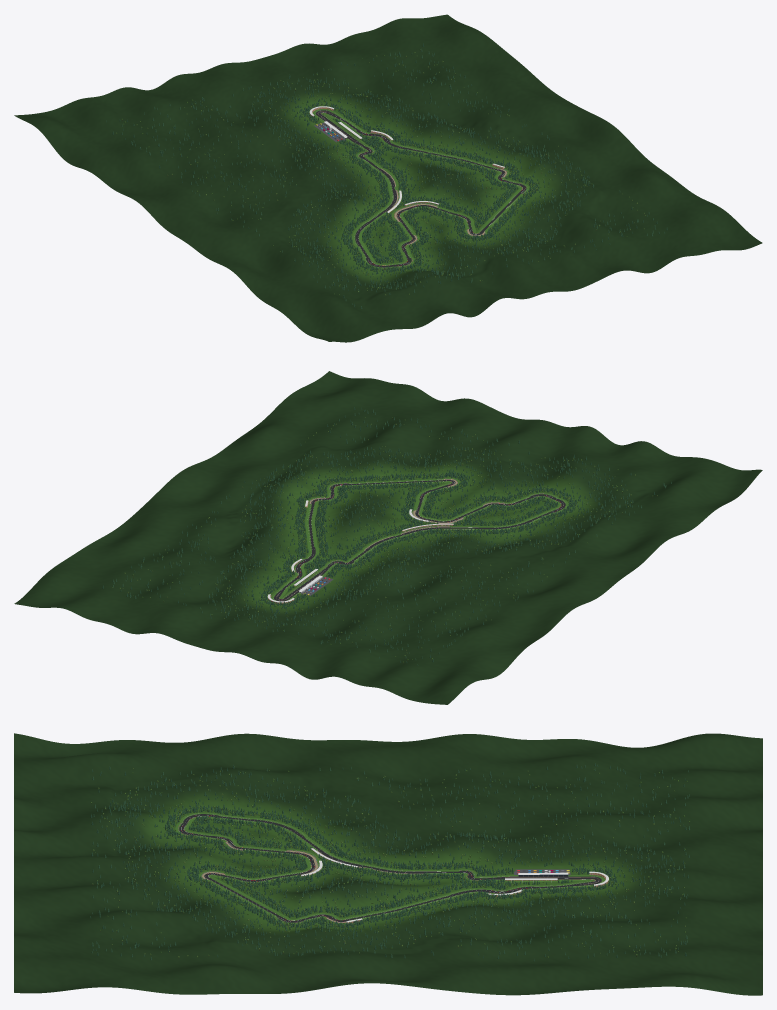
File: spa.glb
3 views of the same model, one above another, from view 1: azimuth 30°, elevation 25°; view 2: azimuth 150°, elevation 25°; view 3: azimuth 270°, elevation 25° (orthographic). The views are drawn at different scales.
Parts seen in each view (by area): view 1: Склоны, Лес — ели, Лес — лиственные, Газон у трассы, Полотно трассы, Зоны безопасности; view 2: Склоны, Лес — ели, Лес — лиственные, Газон у трассы, Полотно трассы, Зоны безопасности; view 3: Склоны, Лес — ели, Лес — лиственные, Газон у трассы, Полотно трассы, Зоны безопасности, Отбойники.
Part boxes in pixels (<box>): Склоны: <box>14,14,762,342</box>; Лес — ели: <box>106,43,667,308</box>; Лес — лиственные: <box>116,49,645,295</box>; Газон у трассы: <box>312,109,529,268</box>; Полотно трассы: <box>319,111,524,266</box>; Зоны безопасности: <box>318,111,526,267</box>; Склоны: <box>14,371,762,704</box>; Лес — ели: <box>102,407,671,665</box>; Лес — лиственные: <box>112,417,657,662</box>; Газон у трассы: <box>270,477,568,601</box>; Полотно трассы: <box>277,480,563,599</box>; Зоны безопасности: <box>275,479,565,600</box>; Склоны: <box>14,733,762,995</box>; Лес — ели: <box>90,763,690,961</box>; Лес — лиственные: <box>90,766,690,957</box>; Газон у трассы: <box>175,812,605,924</box>; Полотно трассы: <box>181,815,598,921</box>; Зоны безопасности: <box>179,814,599,922</box>; Отбойники: <box>182,813,602,920</box>.
Size of the model in its own units: 3240 by 128 by 4080.
25 materials, 3 textured.
